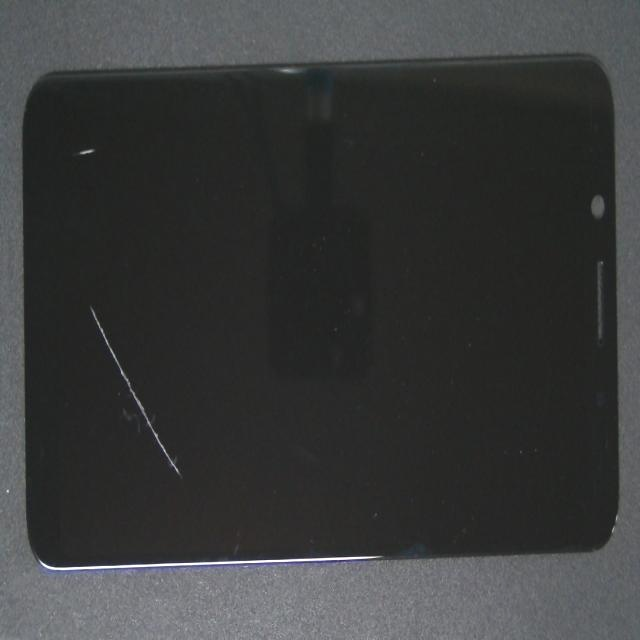scratch: (144, 334, 242, 622), (74, 65, 151, 200)
